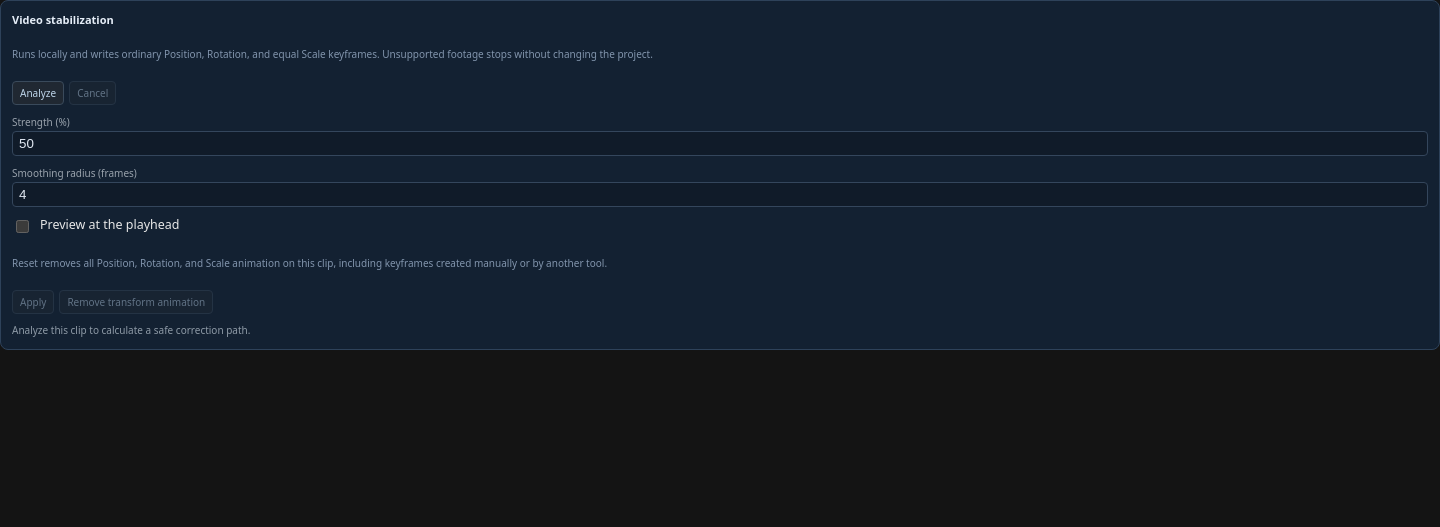
StabilizationEditor › analyzes, exposes exact crop and zoom, previews, confirms replacement, and applies
The width and height of the screenshot is (1440, 527).
Expected: the button "Apply" is disabled, [12,290,54,314]
Step 1. Click the button "Analyze" → (38, 93), box [12,81,64,105]
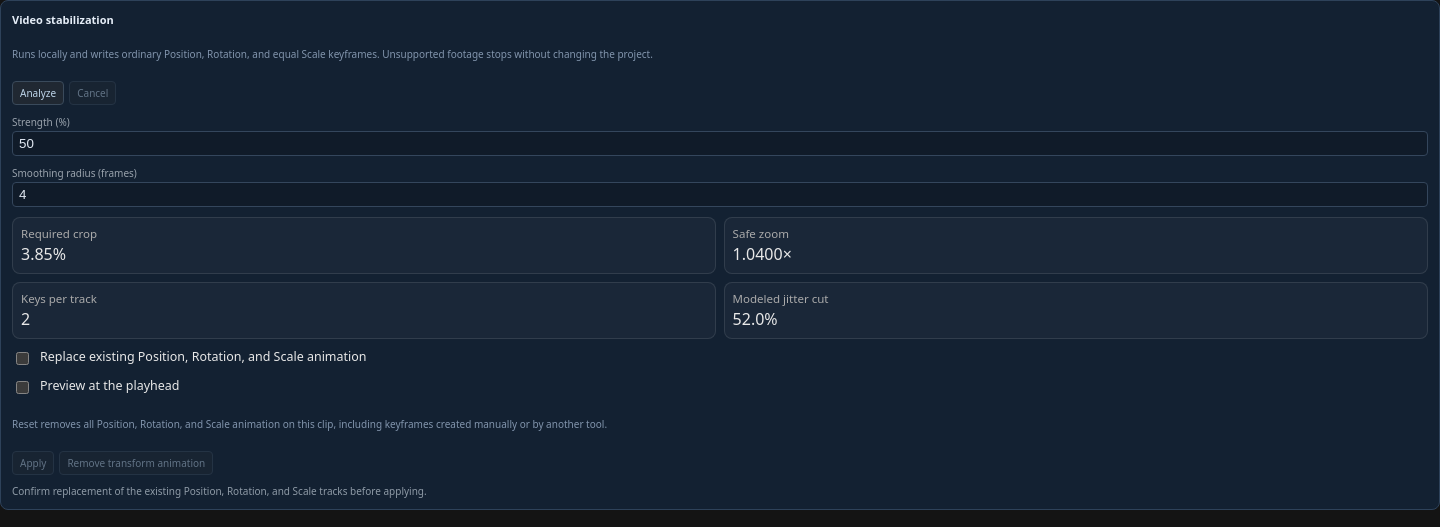
Now the message shows "Confirm replacement", box [12,484,427,498]
Now the text "3.85%" is shown, box [21,243,66,265]
Now the text "1.0400×" is shown, box [733,243,792,265]
Step 2. Click the checkbox labelled "Preview at the playhead" → (22, 388), box [16,381,29,394]
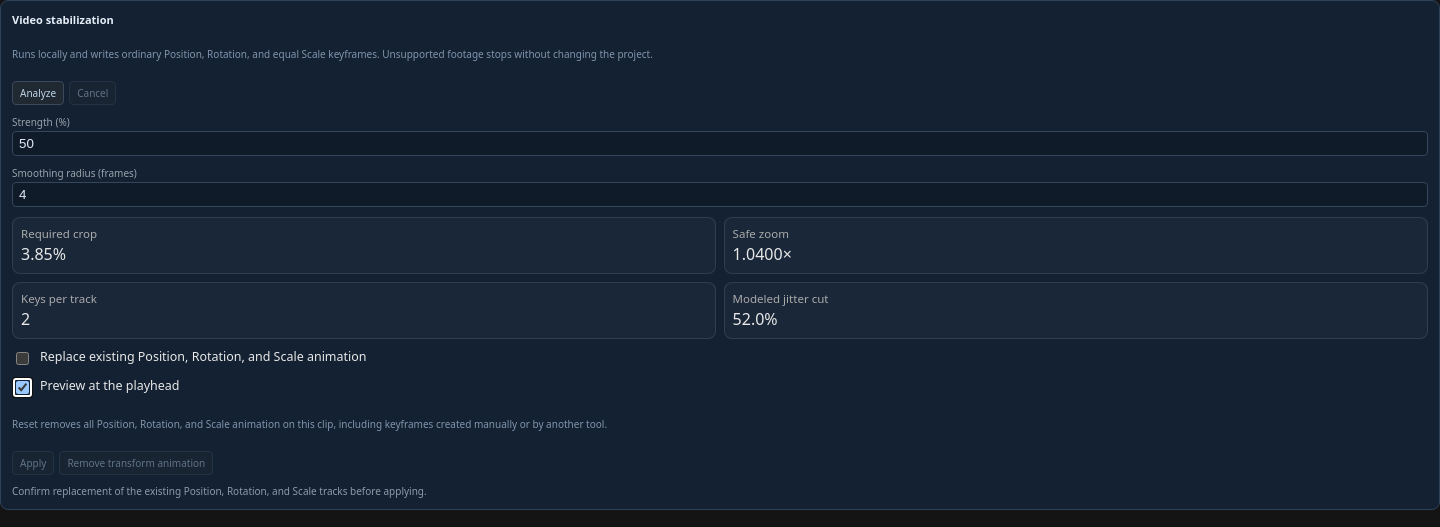
Step 3. Click the checkbox labelled "Replace existing Position, Rotation, and Scale animation" → (22, 358), box [16,352,29,365]
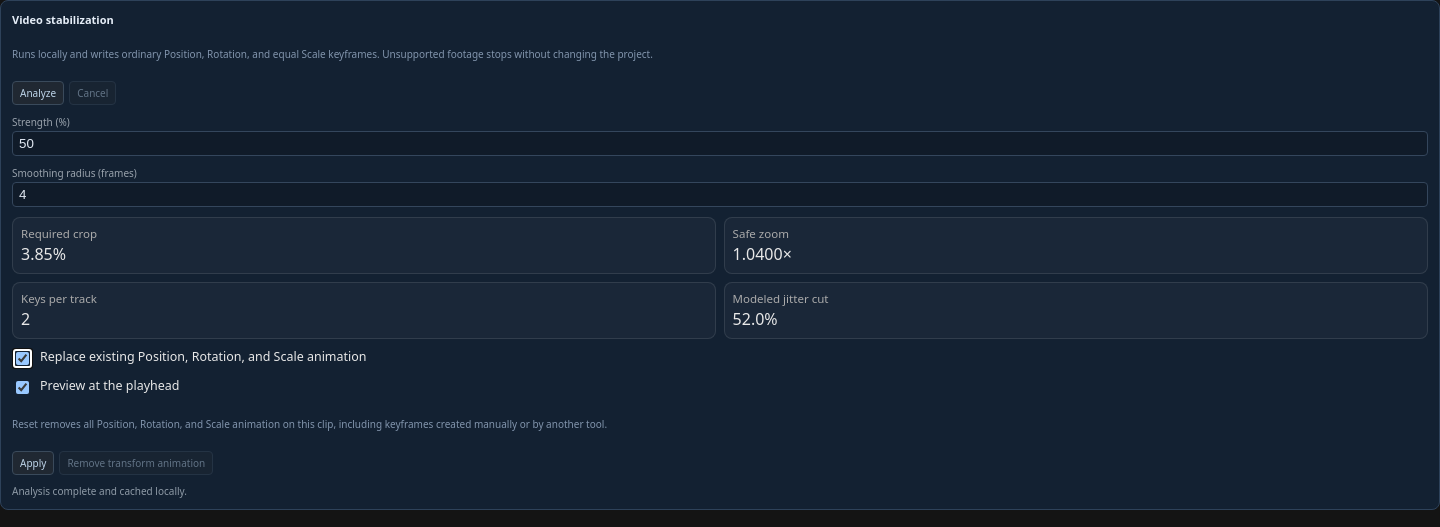
Step 4. Click the button "Apply" → (33, 463), box [12,451,54,475]
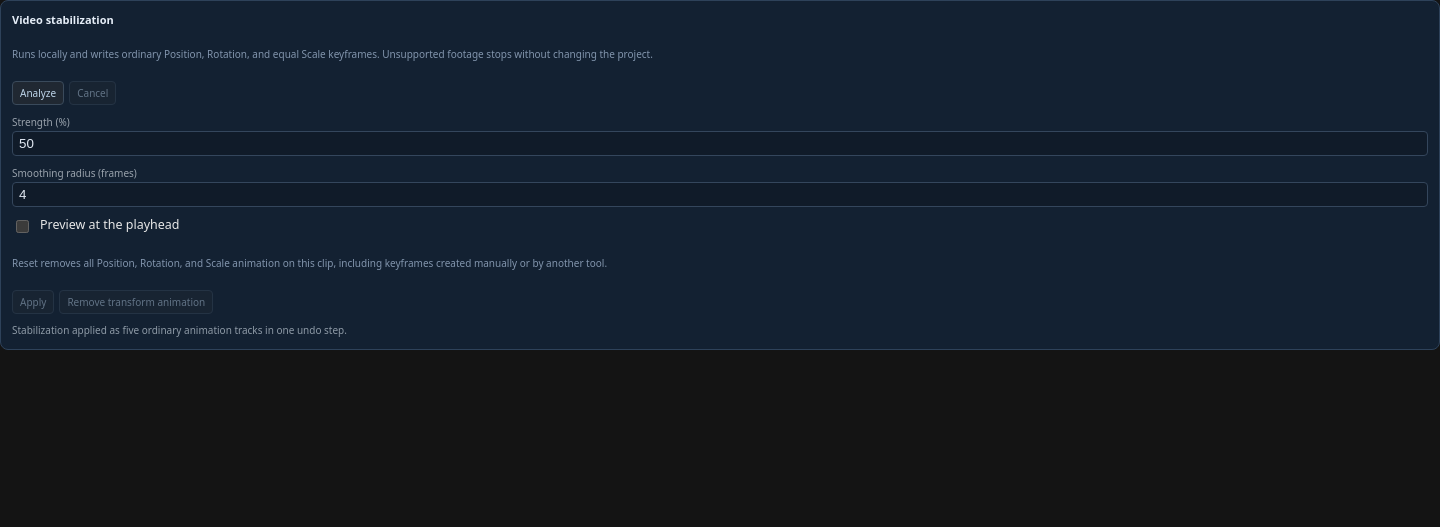
Now the message shows "five ordinary animation tracks", box [12,323,347,337]
